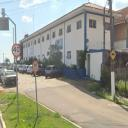speed_limit_20: (32, 60, 38, 73)
speed_limit_40: (11, 44, 21, 57)
